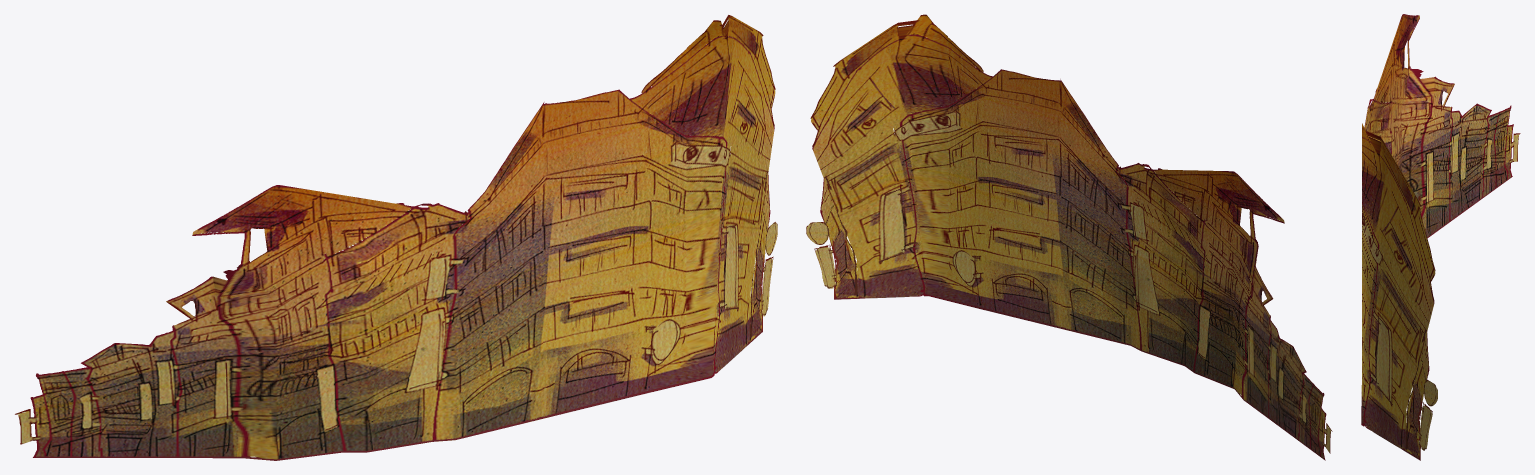
Rendered from 01_front_bld_03.fbx.
3 views of the same model, side by side, from view 1: azimuth 30°, elevation 25°; view 2: azimuth 150°, elevation 25°; view 3: azimuth 270°, elevation 25° (orthographic). The views are drawn at different scales.
Visible parts, largest first — view 1: 房子_03; view 2: 房子_03; view 3: 房子_03.
Part boxes in pixels (x1=…): 房子_03: x1=15, y1=15, x2=777, y2=460; 房子_03: x1=806, y1=14, x2=1332, y2=460; 房子_03: x1=1361, y1=14, x2=1520, y2=460.
Size of the model in its own units: 433 by 207 by 97.12.
1 material, 1 textured.
